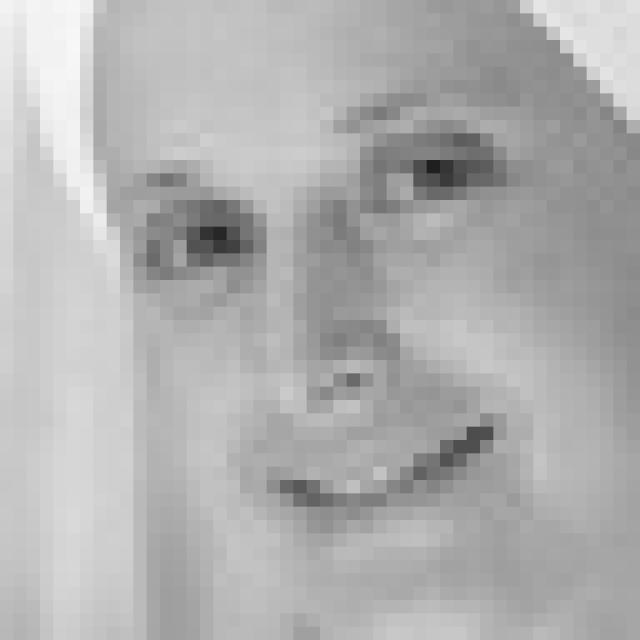happy: (121, 79, 534, 550)
